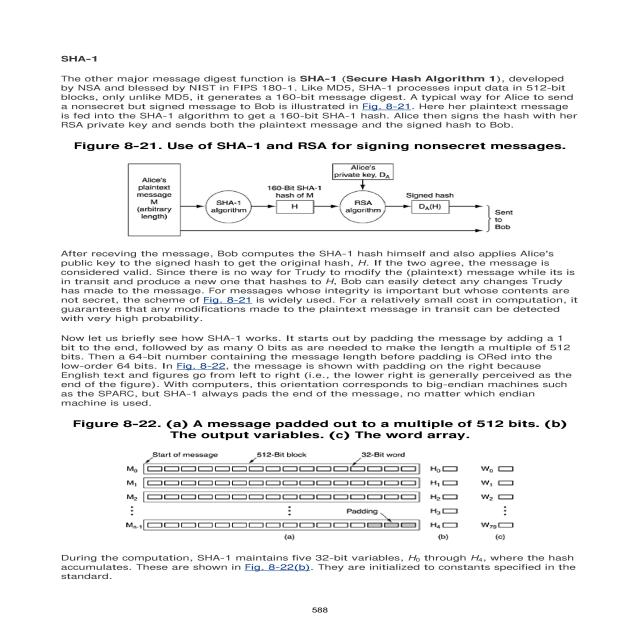diagram: (50, 417, 590, 587), (59, 134, 594, 248)
